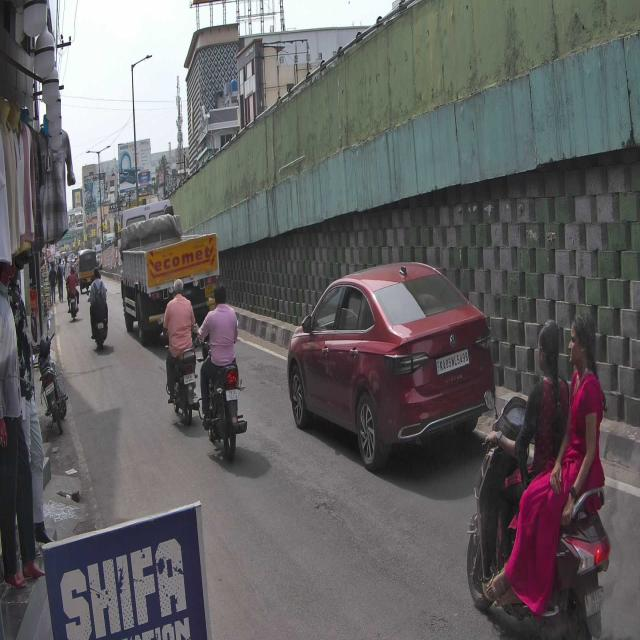double_rider: (466, 306, 612, 640)
